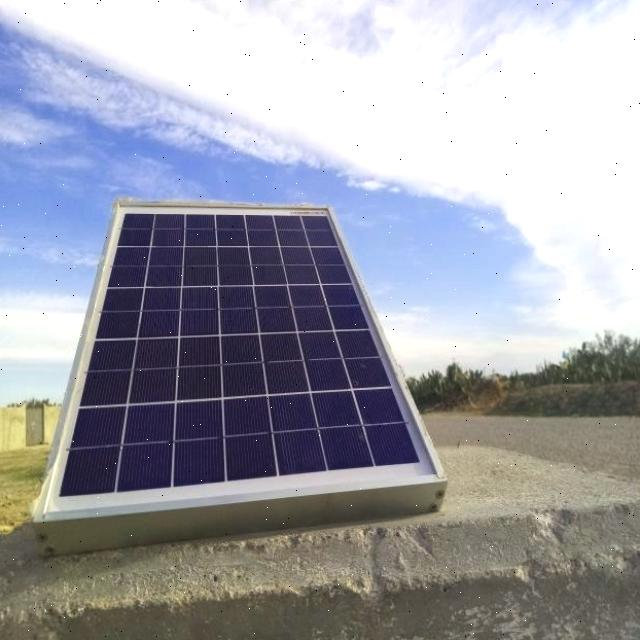Normal Solar Panel: (47, 200, 444, 518)
